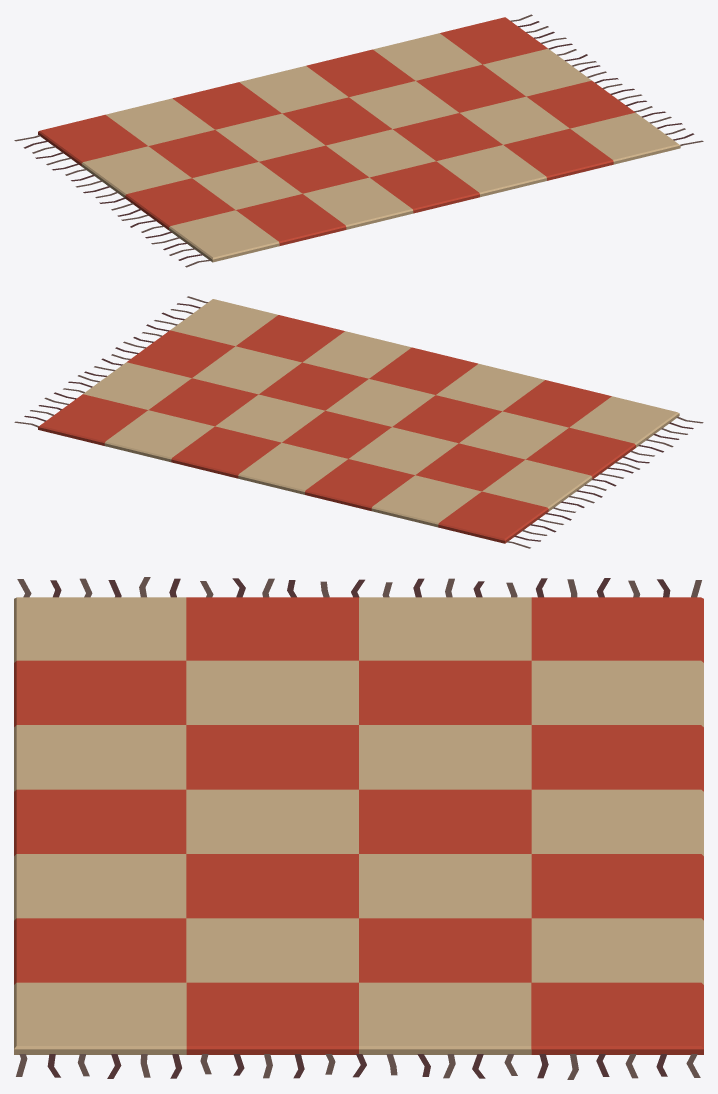
The model's file is Carpet_02.glb.
3 views of the same model, one above another, from view 1: azimuth 30°, elevation 25°; view 2: azimuth 150°, elevation 25°; view 3: azimuth 270°, elevation 25° (orthographic). The views are drawn at different scales.
Parts seen in each view (by area): view 1: Carpet_02; view 2: Carpet_02; view 3: Carpet_02.
Part boxes in pixels (left/top/right/bottom): Carpet_02: left=14, top=14, right=703, bottom=267; Carpet_02: left=14, top=296, right=703, bottom=548; Carpet_02: left=14, top=577, right=703, bottom=1079.
Size of the model in its own units: 3.45 by 0.026 by 2.
1 material, 1 textured.
